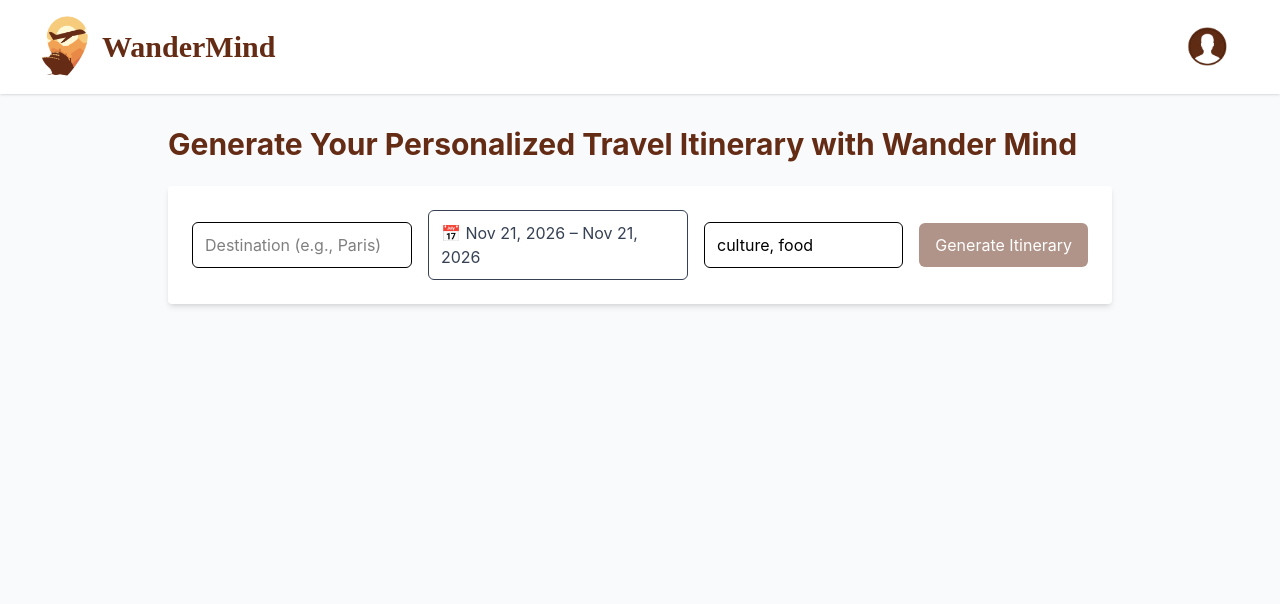
Test: Home: saving a generated itinerary › saves the request that produced the itinerary when the form is unchanged
Type "Lisbon" into the field with placeholder "Destination (e.g., Paris)".
click(302, 245); type("Lisbon")  # box [192,222,412,268]
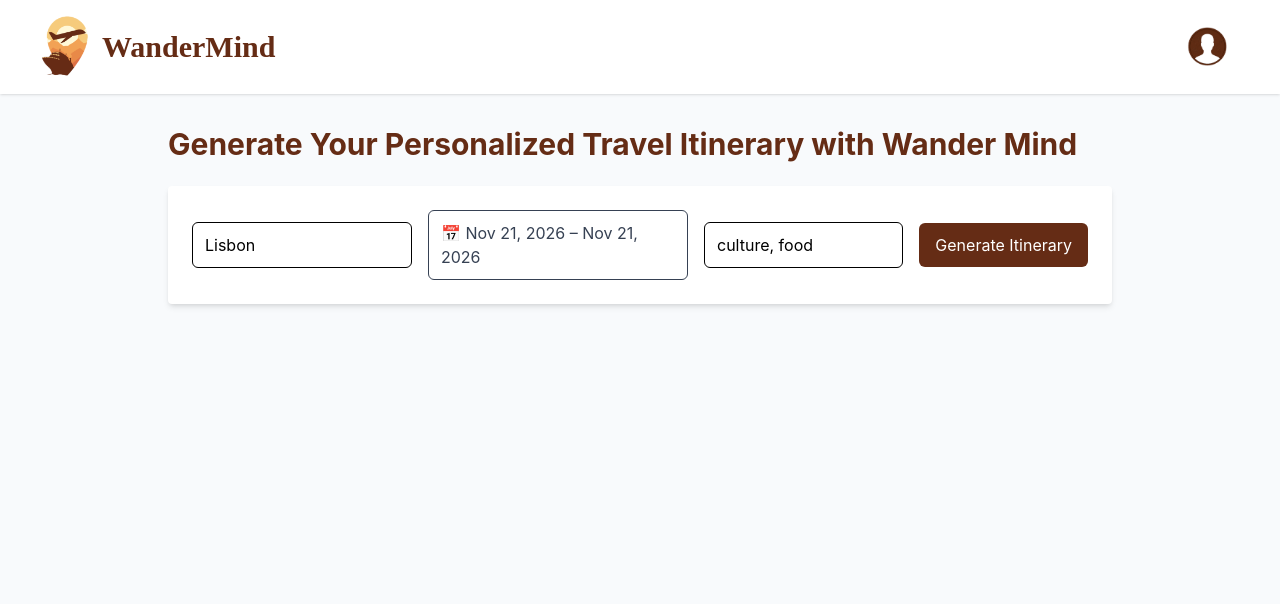
Replace the text in the 2nd field with placeholder "Interests (e.g. culture, food, adventure)" with "food, trams" at point(804, 245), box [704,222,903,268]
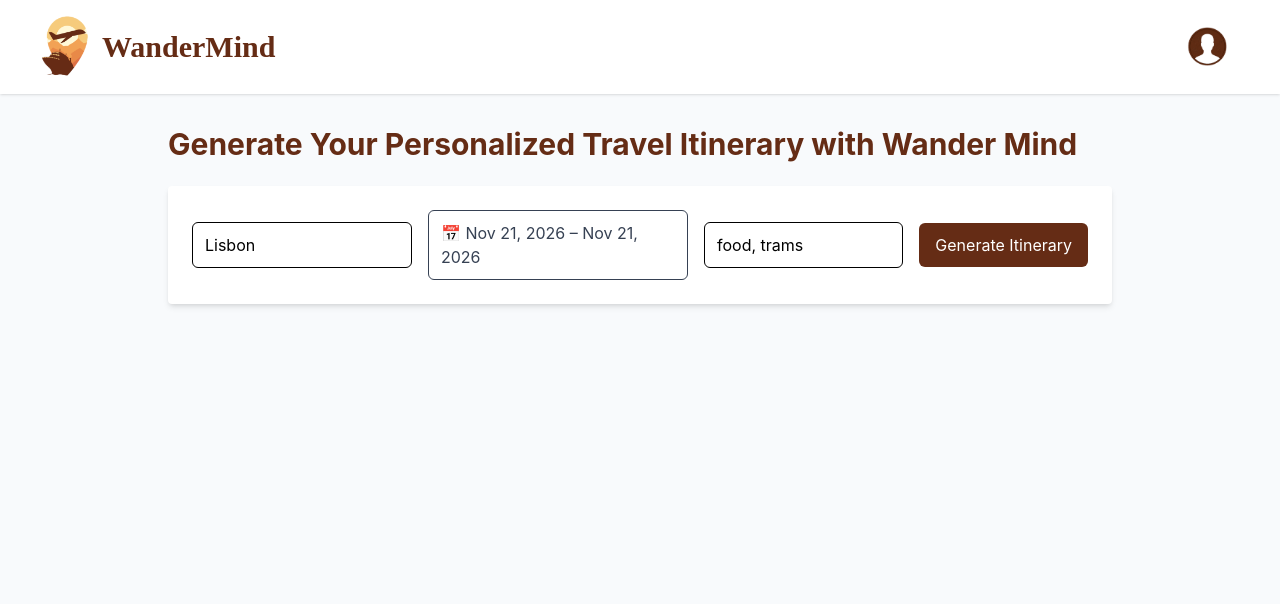
Click the button "Generate Itinerary".
click(1004, 245)  # box [919,223,1088,267]
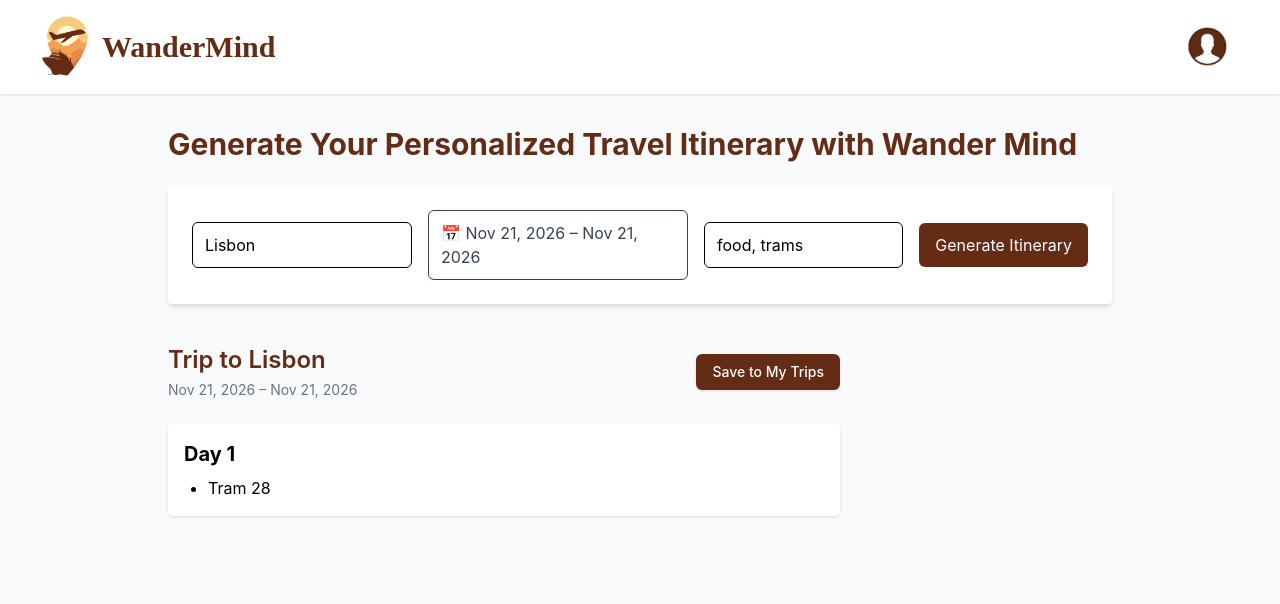
Now the list item "Tram 28" is shown, box [208,478,271,498]
Click the button "Save to My Trips".
click(768, 372)  # box [696,354,840,390]
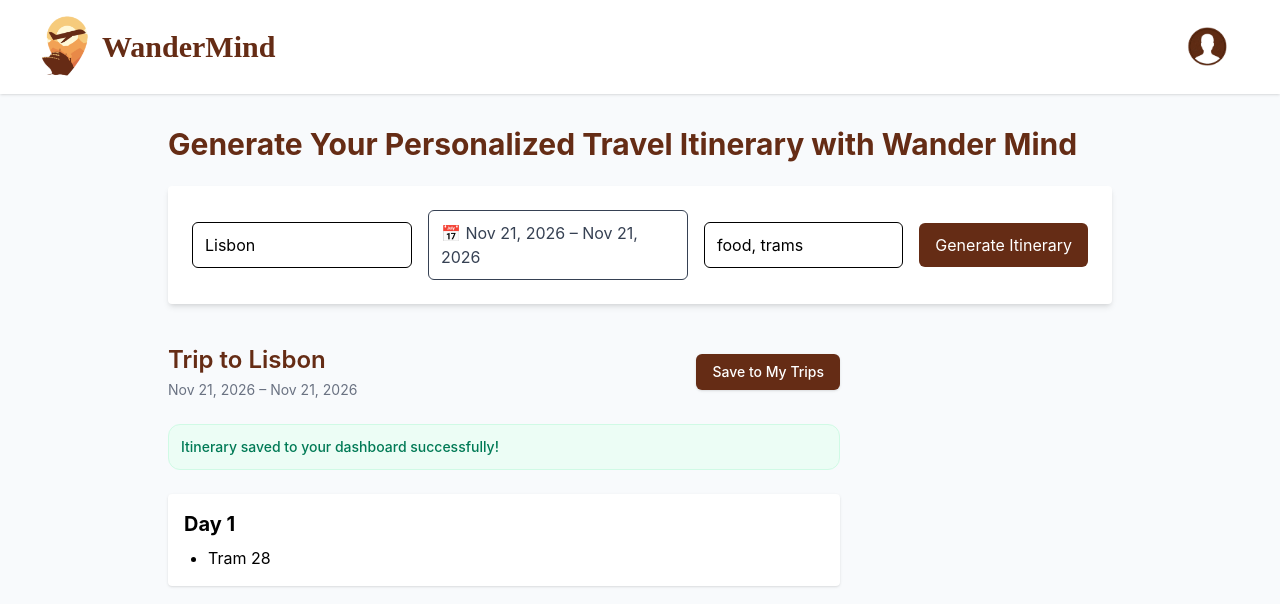
Now the text "Itinerary saved to your dashboard successfully!" is shown, box [168,424,840,470]
